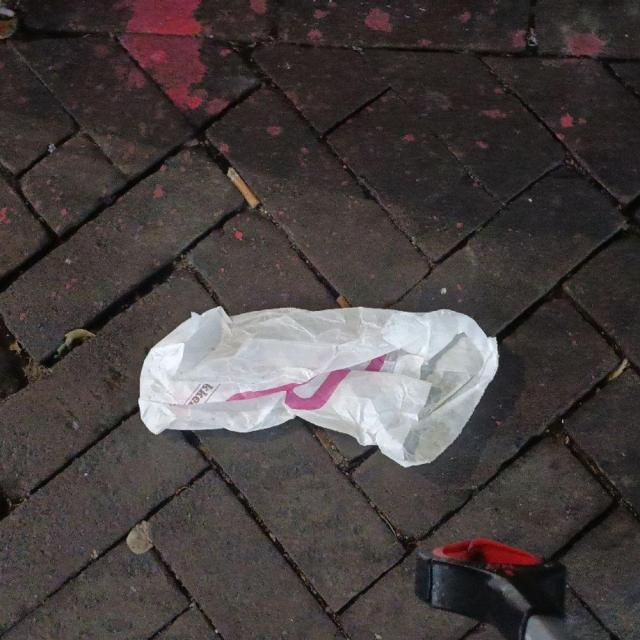Paper: (134, 301, 502, 472)
